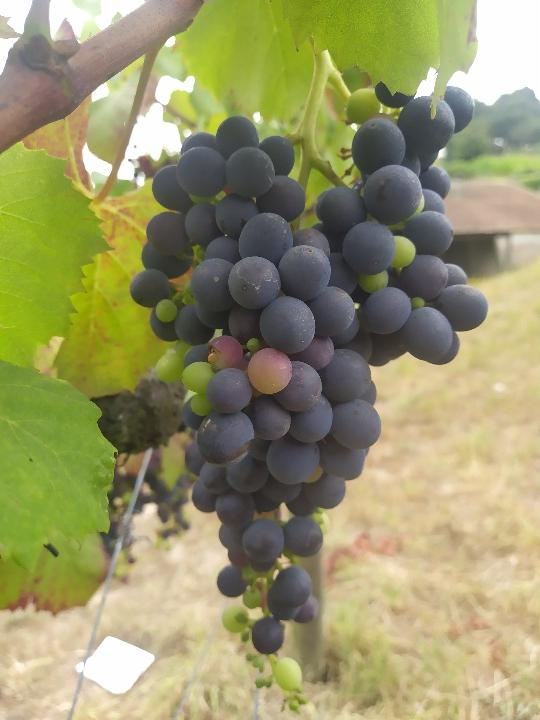grape: (131, 84, 487, 713)
